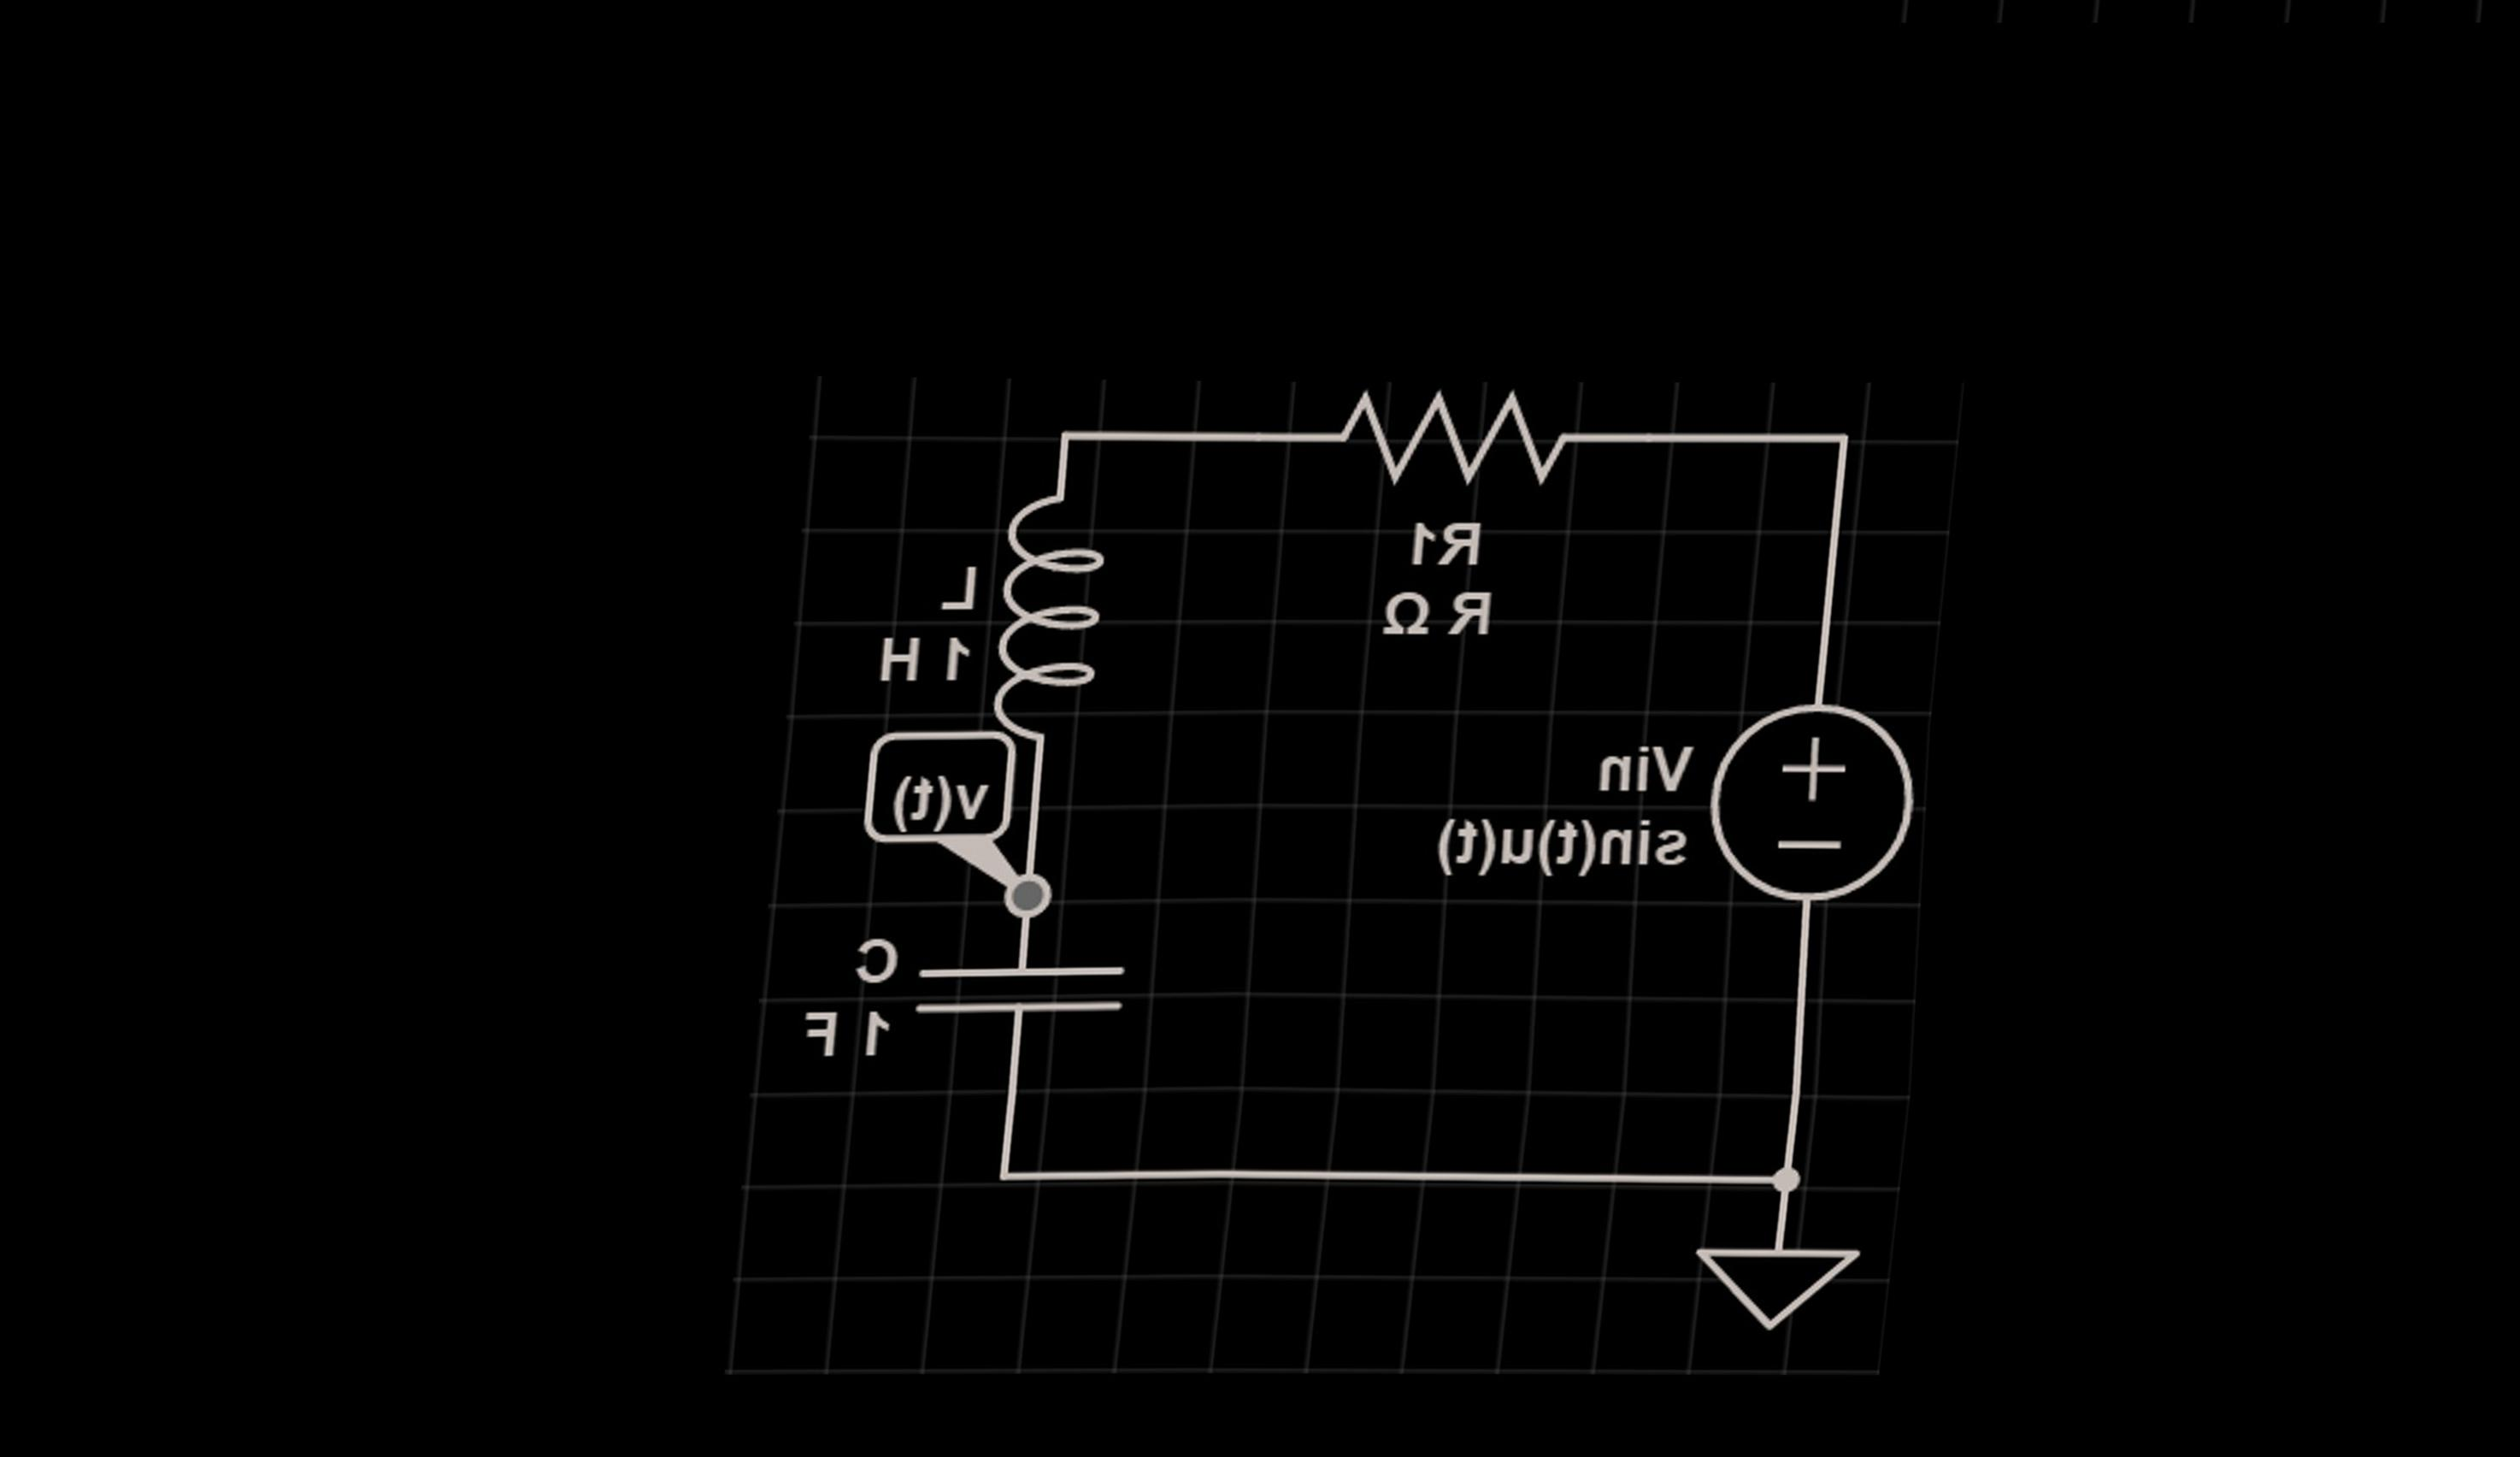Battery: (1671, 654, 1981, 959)
